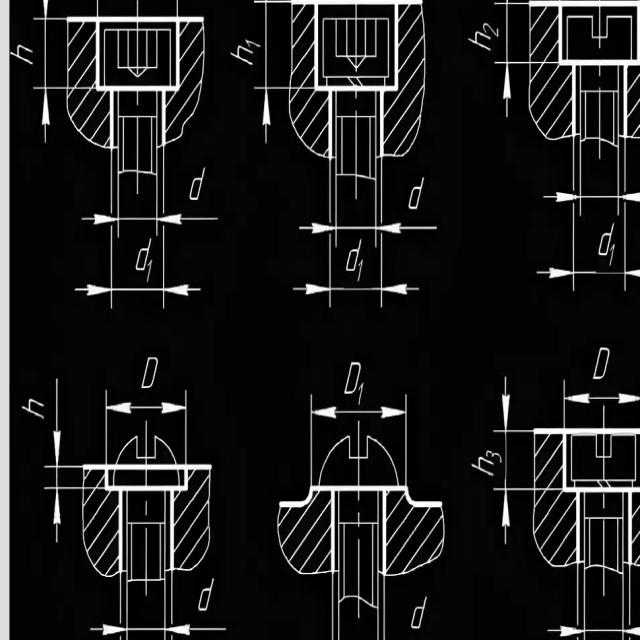marking_line: (77, 178, 202, 309), (293, 186, 422, 308), (536, 146, 640, 294), (296, 182, 438, 248), (493, 376, 533, 546), (543, 148, 640, 213), (546, 575, 640, 640), (252, 0, 287, 147), (33, 0, 65, 147), (150, 177, 220, 238), (307, 393, 407, 434), (494, 0, 527, 121), (102, 387, 190, 432), (161, 581, 228, 640), (562, 377, 640, 427), (43, 376, 80, 472), (79, 177, 123, 237), (493, 373, 532, 435), (493, 484, 531, 546), (43, 485, 80, 546), (90, 584, 129, 639), (30, 85, 65, 146), (305, 392, 319, 485), (175, 393, 187, 464), (104, 389, 115, 463), (398, 395, 407, 485), (34, 0, 66, 23)
numeric: (144, 258, 153, 285), (486, 448, 502, 463), (357, 381, 365, 408), (357, 259, 364, 286)
